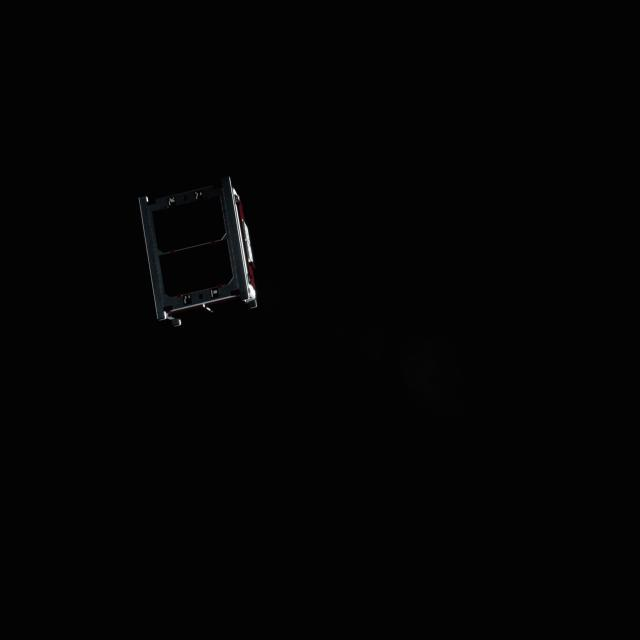satellite: (134, 175, 264, 334)
